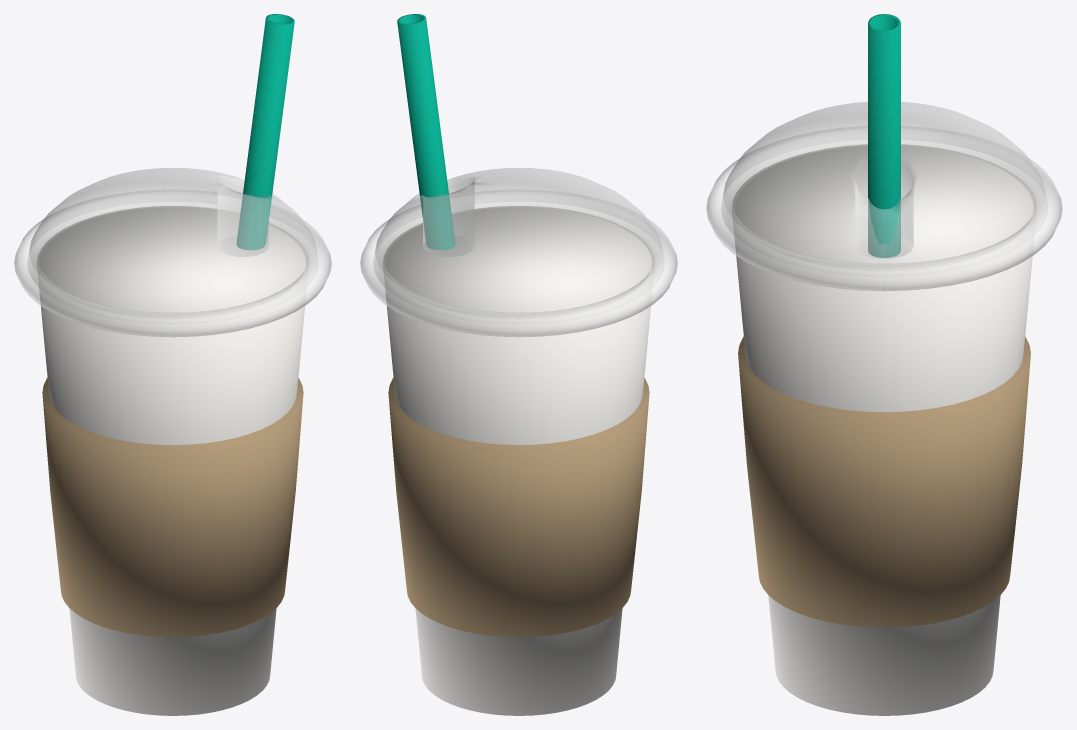
The model's file is takeaway-cup.glb.
3 renders of one model, left to right at view 1: azimuth 30°, elevation 25°; view 2: azimuth 150°, elevation 25°; view 3: azimuth 270°, elevation 25°, orthographic. The views are drawn at different scales.
Visible parts, largest first — view 1: CupBody, Sleeve, DomeLid, Straw; view 2: CupBody, Sleeve, DomeLid, Straw; view 3: CupBody, Sleeve, DomeLid, Straw.
Part boxes in pixels (x1,y1,x2,y2): CupBody: (37,206,308,715); Sleeve: (42,378,303,637); DomeLid: (14,167,331,337); Straw: (237,14,294,249); CupBody: (383,206,654,715); Sleeve: (388,378,649,637); DomeLid: (360,167,677,337); Straw: (397,14,454,249); CupBody: (732,144,1036,715); Sleeve: (738,336,1030,627); DomeLid: (706,101,1062,291); Straw: (868,14,900,257).
Size of the model in its own units: 0.098 by 0.2147 by 0.098.
